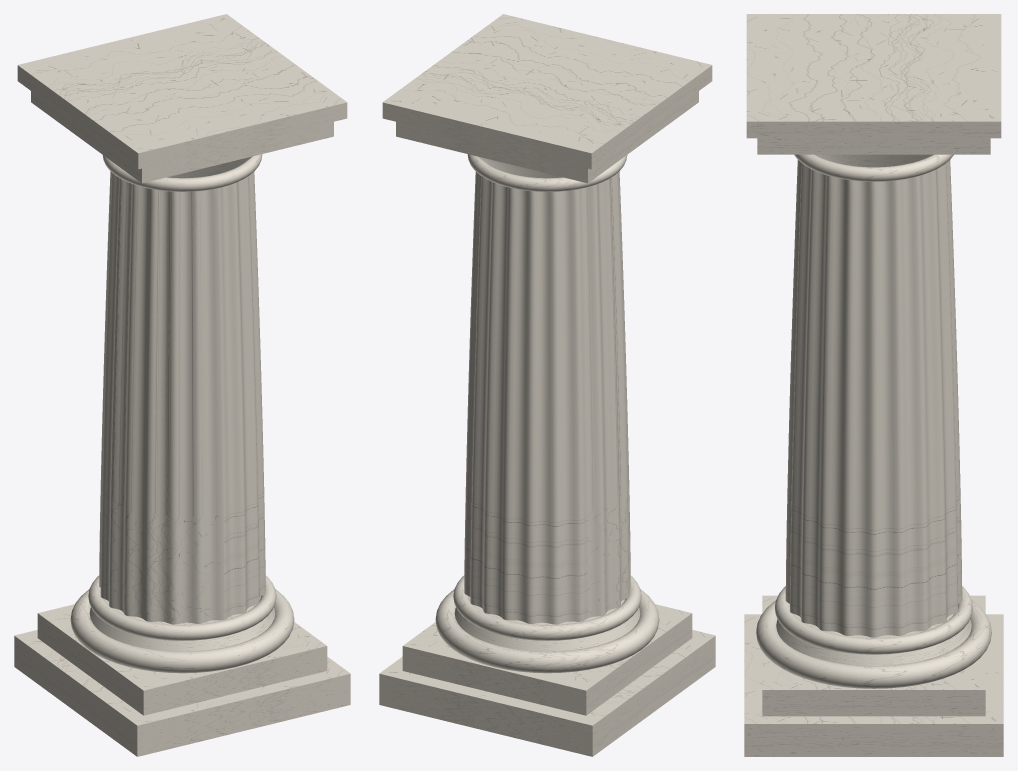
The model's file is stone_pillar.glb.
3 renders of one model, left to right at view 1: azimuth 30°, elevation 25°; view 2: azimuth 150°, elevation 25°; view 3: azimuth 270°, elevation 25°, orthographic. The views are drawn at different scales.
Visible parts, largest first — view 1: ancient_fluted_pillar; view 2: ancient_fluted_pillar; view 3: ancient_fluted_pillar.
Boxes of the visible parts, x1,y1,x2,y2 form: ancient_fluted_pillar: (14, 14, 350, 756); ancient_fluted_pillar: (379, 14, 715, 756); ancient_fluted_pillar: (744, 14, 1003, 756).
Size of the model in its own units: 2.5 by 6.74 by 2.5.
Materials: 1 (1 with a texture image).
